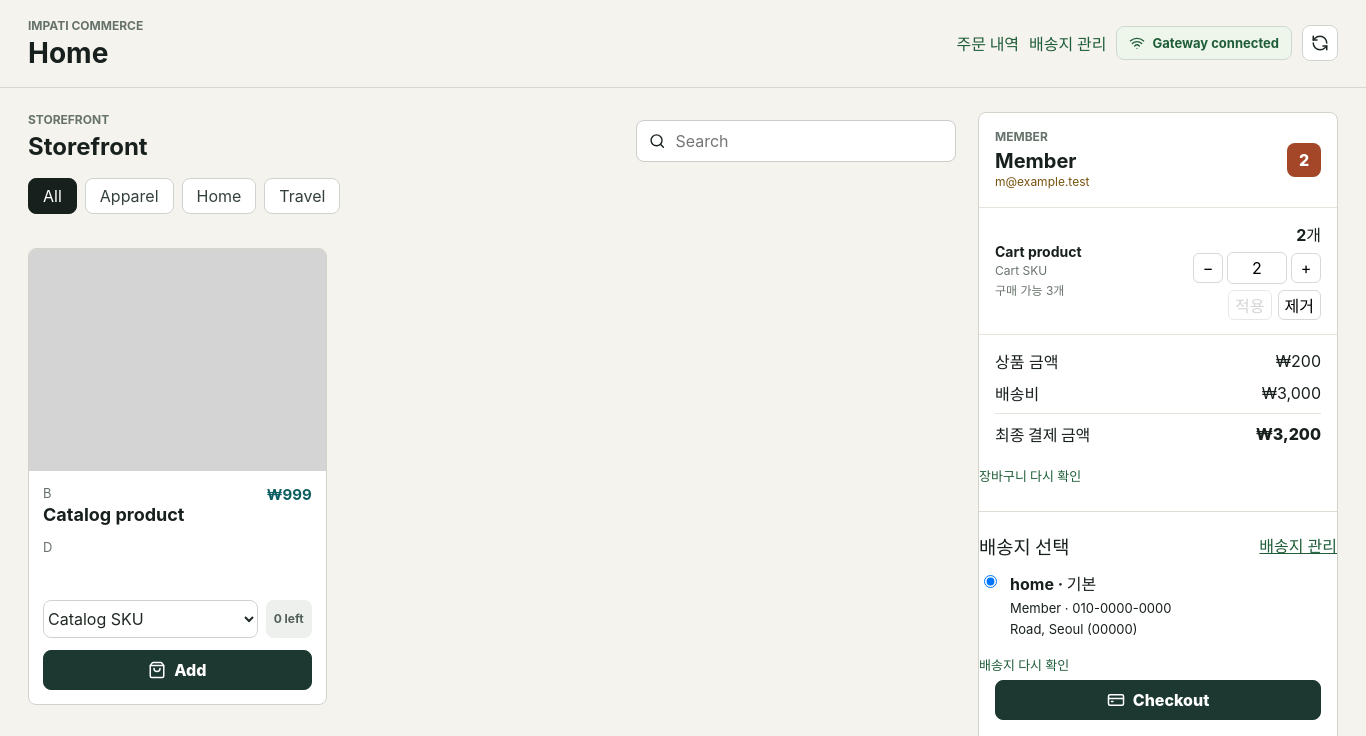
Scenario: shows the confirmed price breakdown in the checkout result
Click the button "Checkout".
click(1158, 700)  # box [995,680,1321,720]
(page scrolled)
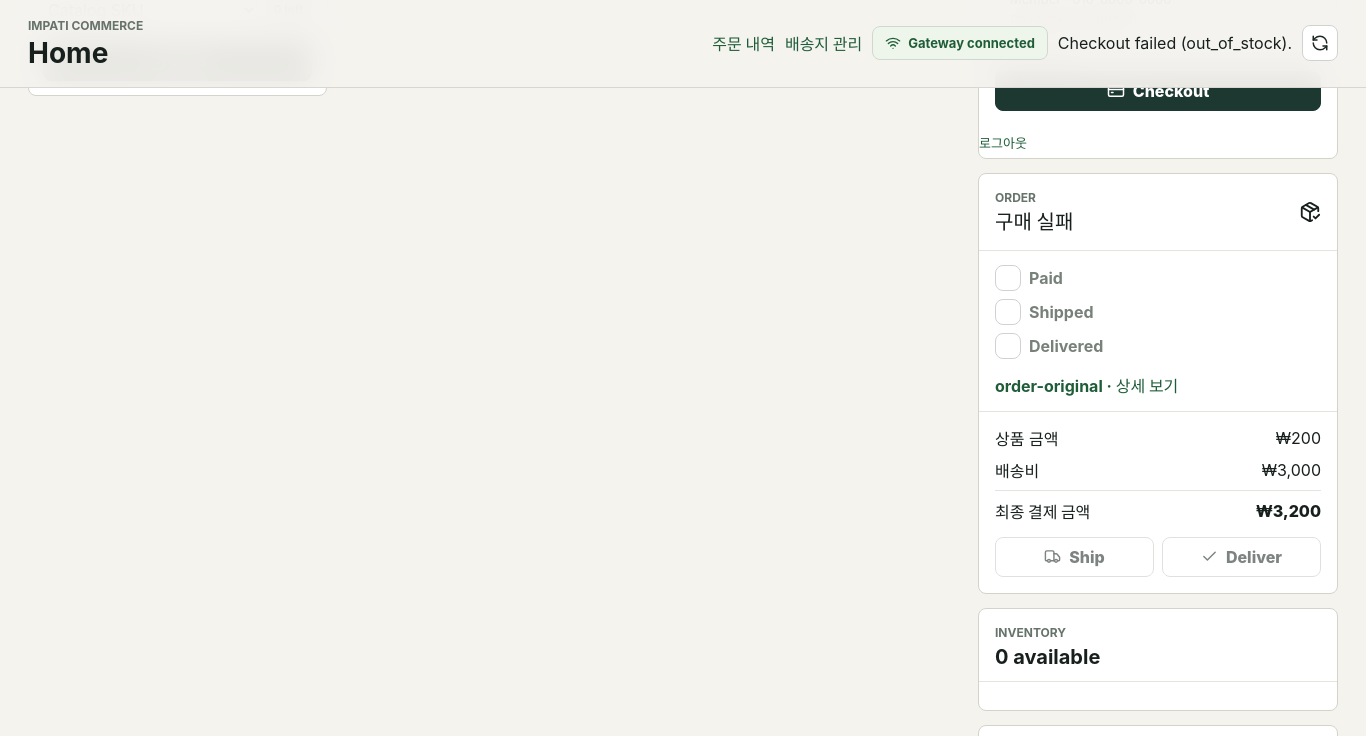
Expected: the link "order-original · 상세 보기" is shown, [995,373,1178,397]
